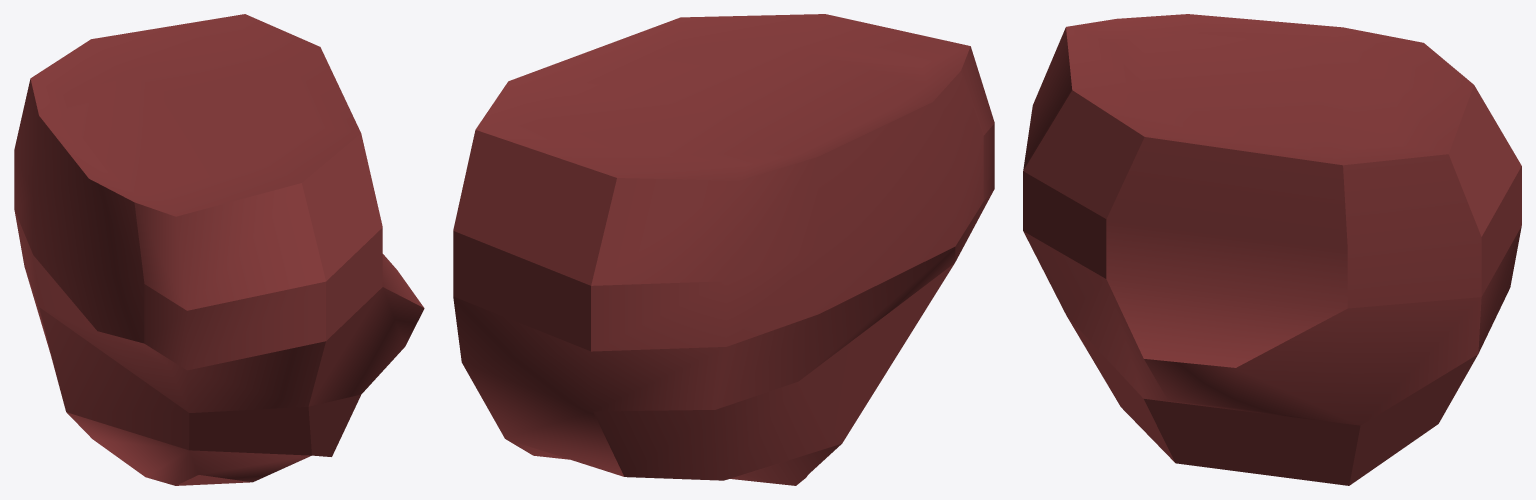
The model's file is ChubbyFloatEarth1.fbx.
The picture shows the model from 3 angles, left to right: view 1: azimuth 30°, elevation 25°; view 2: azimuth 150°, elevation 25°; view 3: azimuth 270°, elevation 25°; orthographic projection. The views are drawn at different scales.
Parts seen in each view (by area): view 1: ChubbyFloatEath1; view 2: ChubbyFloatEath1; view 3: ChubbyFloatEath1.
Part boxes in pixels (<box>): ChubbyFloatEath1: <box>14,14,424,485</box>; ChubbyFloatEath1: <box>453,14,994,485</box>; ChubbyFloatEath1: <box>1023,14,1521,485</box>.
Size of the model in its own units: 292 by 286 by 371.
